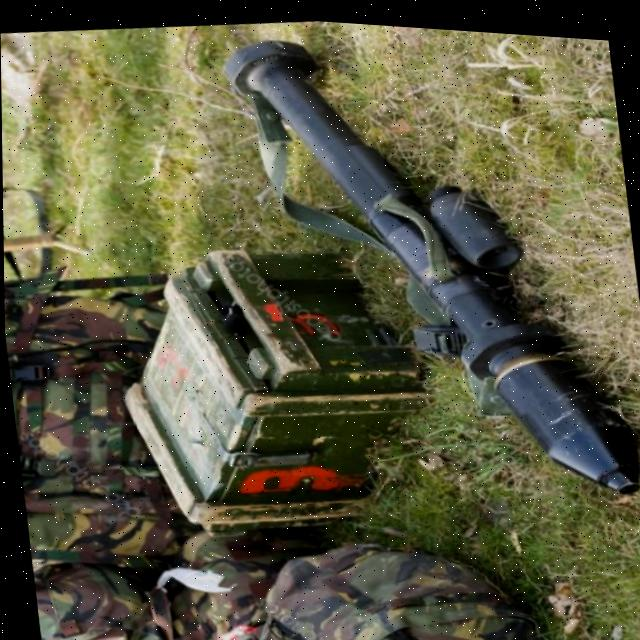rocket: (218, 11, 640, 523)
